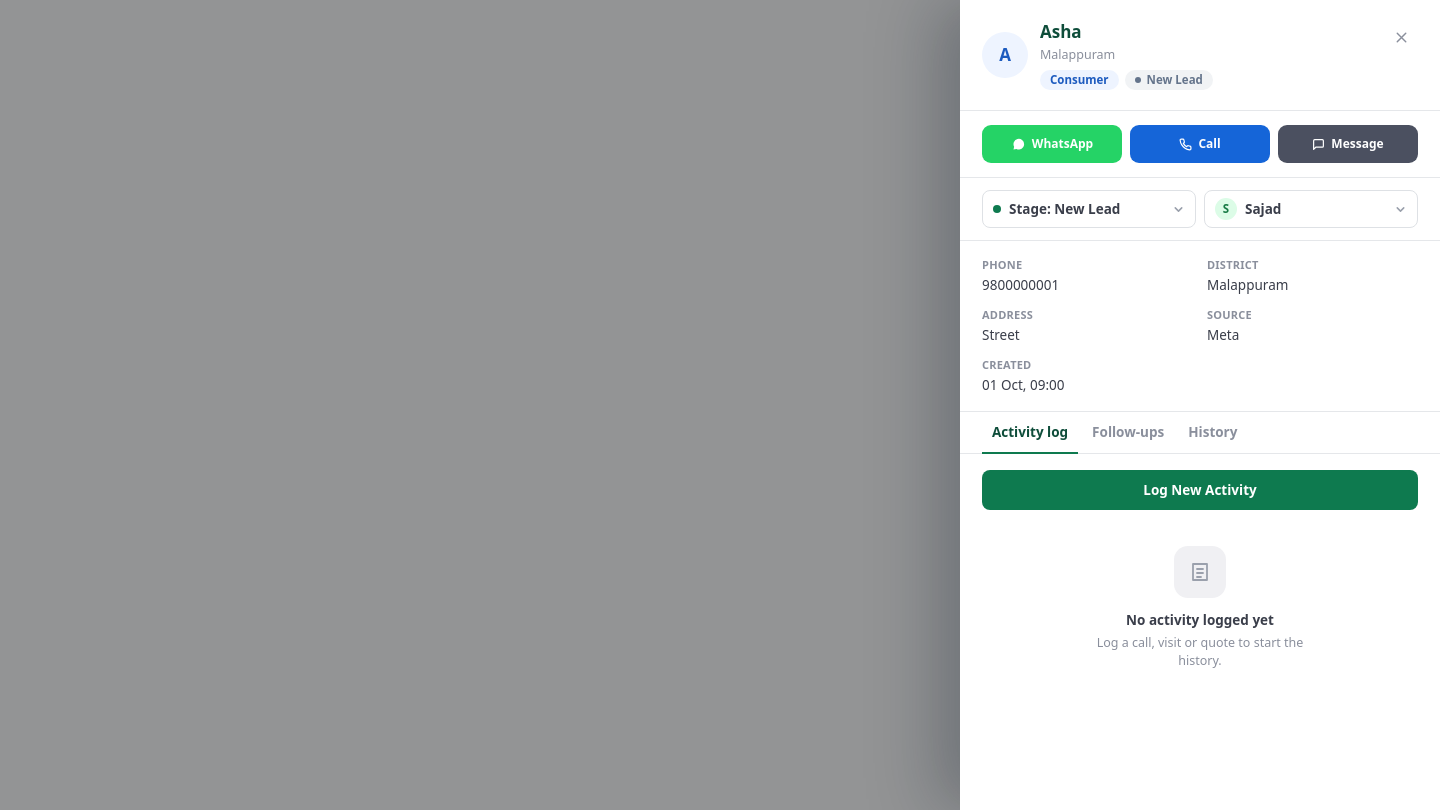
Test: lead panel activity section › opens the schedule form from the prompt
Click the button "Log New Activity" at (1200, 490), box [982,470,1418,510]
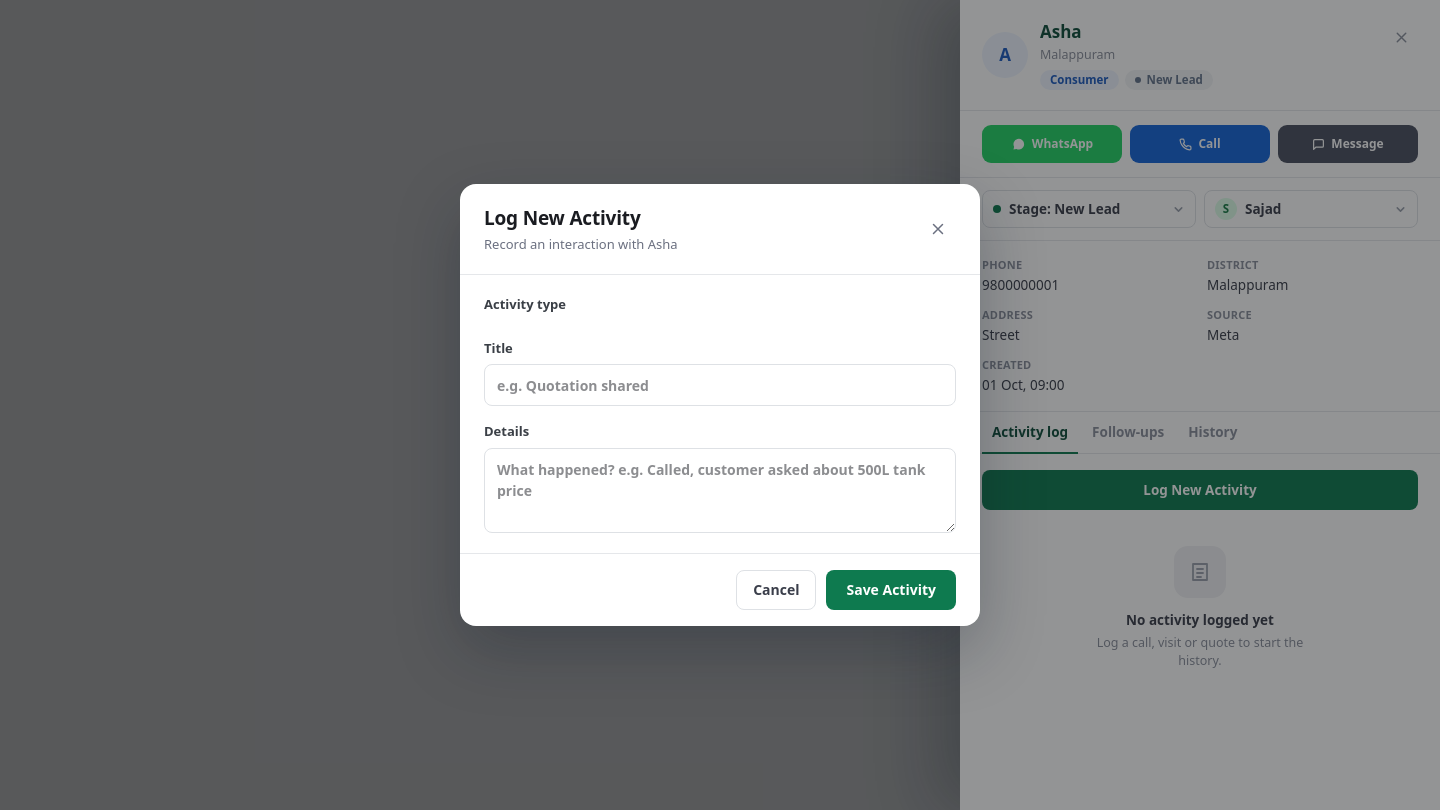
Replace the text in the text box with placeholder "What happened" with "Visited" at (720, 490), box [484,448,956,533]
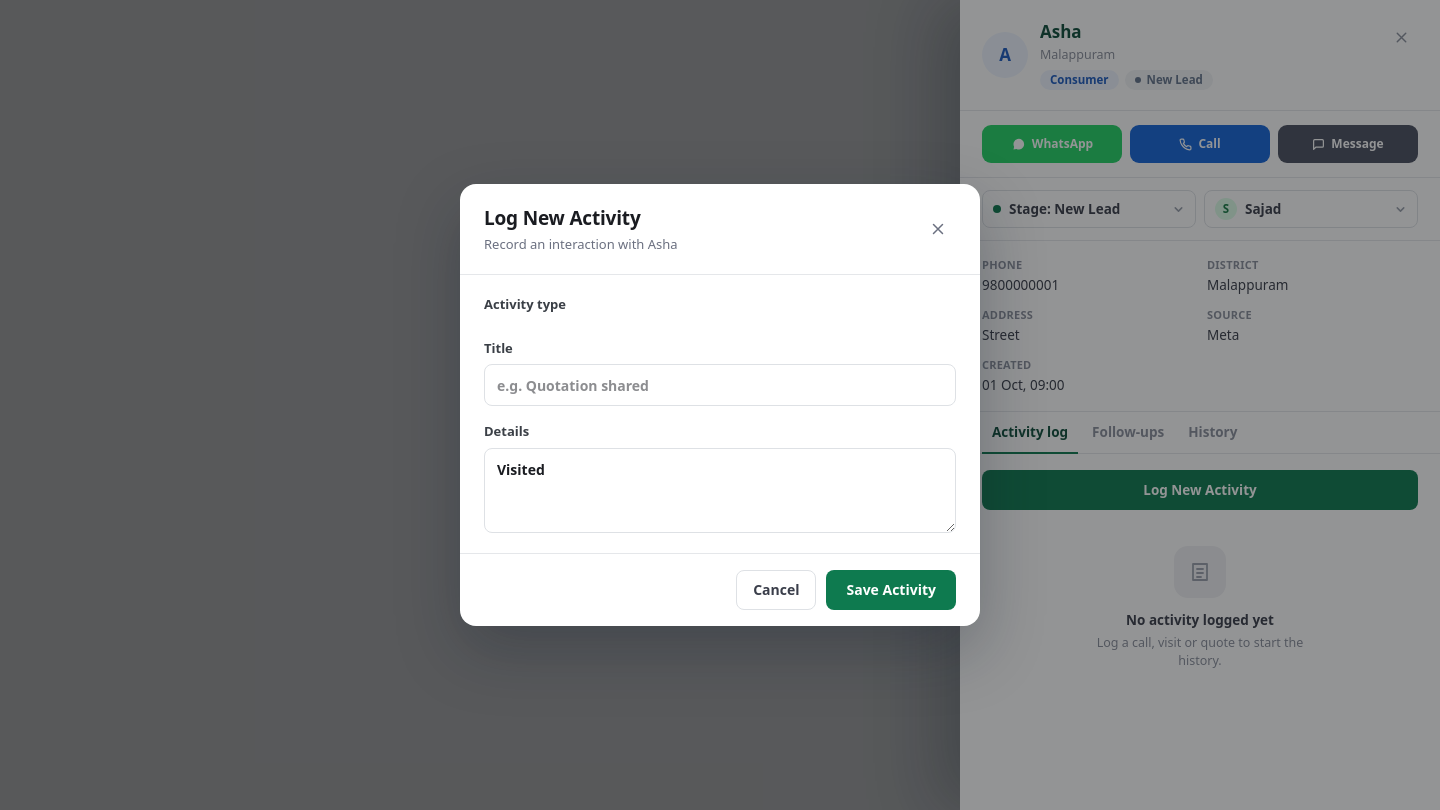
Click the button "Save Activity" at (891, 590), box [826,570,956,610]
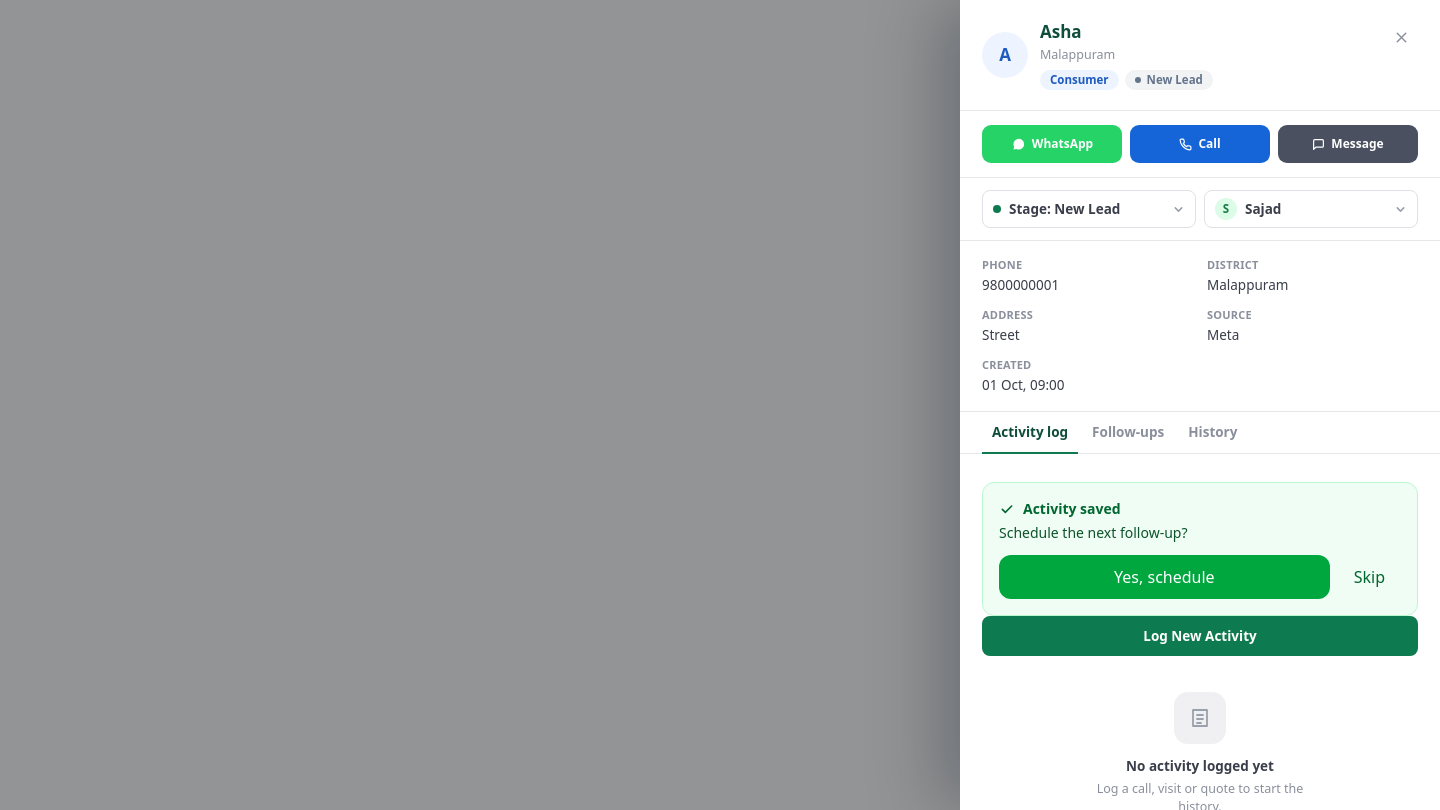
Click the button "Yes, schedule" at (1164, 577), box [999,555,1330,599]
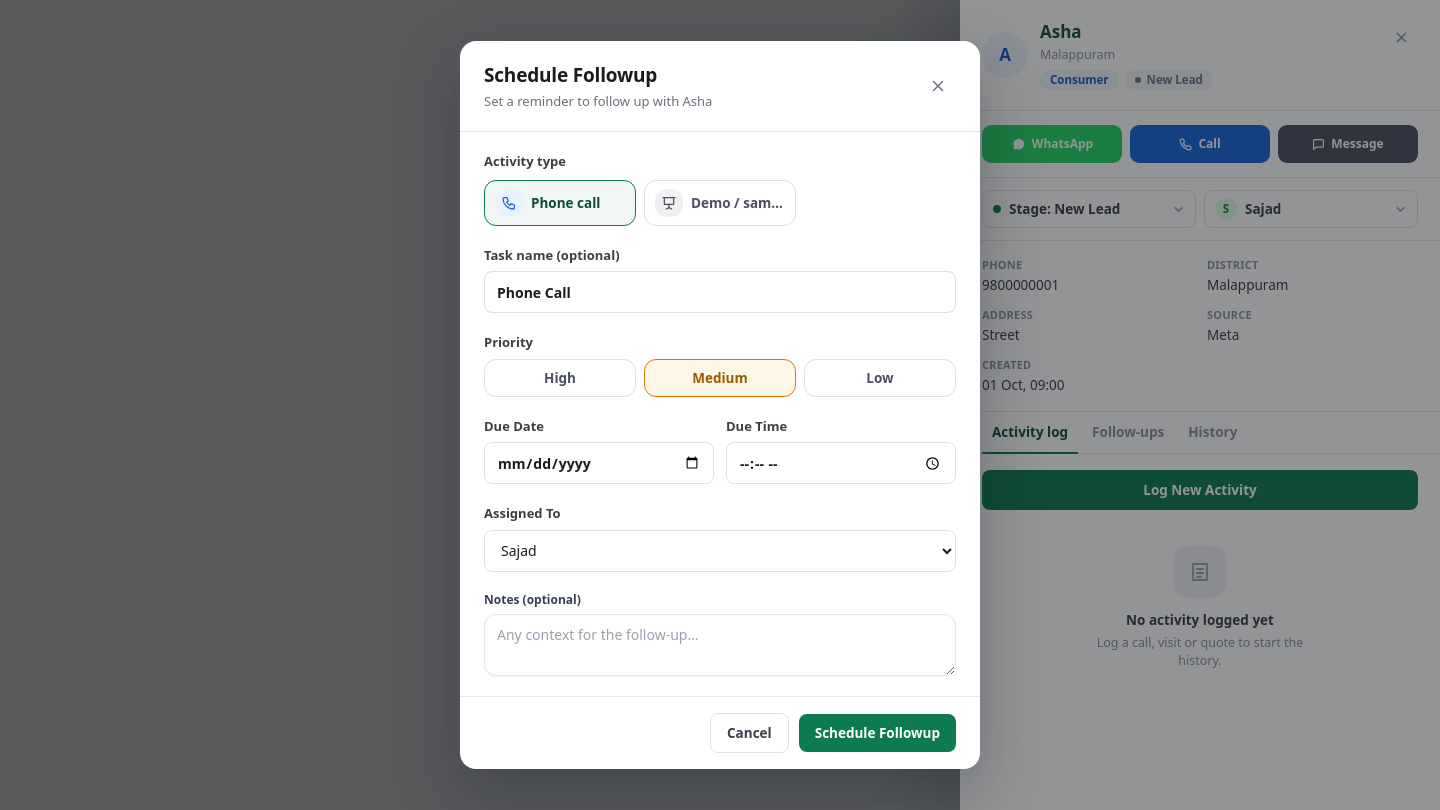
Check: the dialog "Schedule Followup" is shown
Check: the text "Activity saved" is gone
